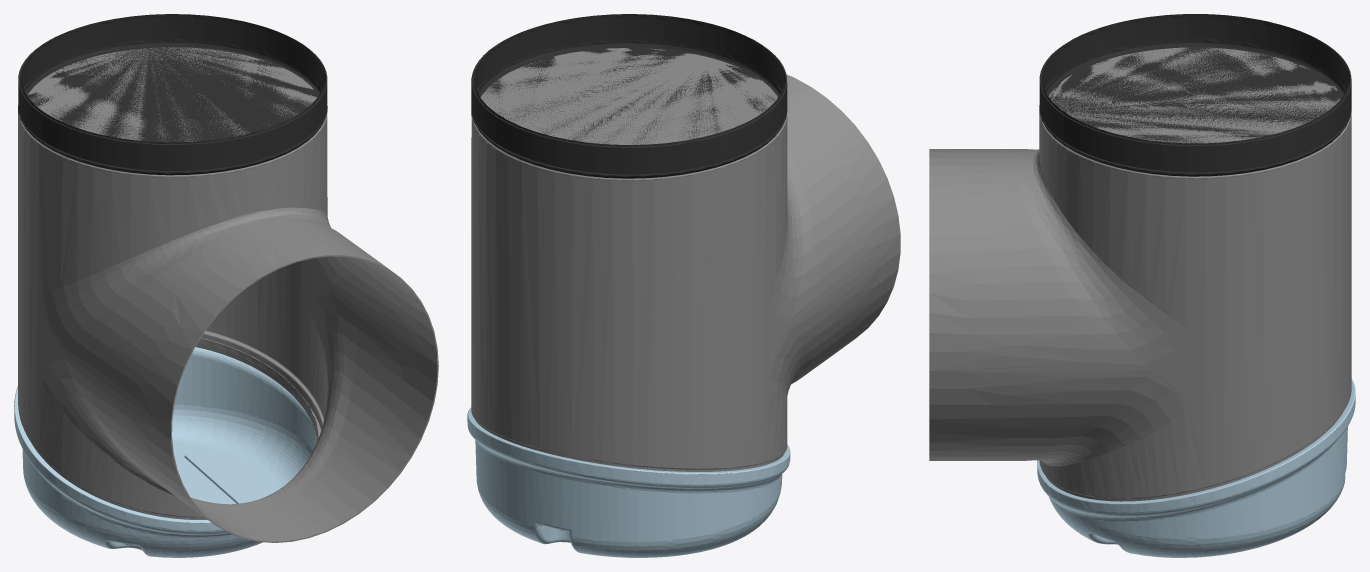
The model's file is wrist1.dae.
3 renders of one model, left to right at view 1: azimuth 30°, elevation 25°; view 2: azimuth 150°, elevation 25°; view 3: azimuth 270°, elevation 25°, orthographic. The views are drawn at different scales.
Visible parts, largest first — view 1: eSeries_UR3e_034, eSeries_UR3e_035, eSeries_UR3e_027; view 2: eSeries_UR3e_034, eSeries_UR3e_035, eSeries_UR3e_027; view 3: eSeries_UR3e_034, eSeries_UR3e_035, eSeries_UR3e_027.
Part boxes in pixels (x1,y1,x2,y2): eSeries_UR3e_034: (18, 47, 438, 542); eSeries_UR3e_035: (18, 14, 327, 175); eSeries_UR3e_027: (14, 347, 317, 557); eSeries_UR3e_034: (471, 48, 900, 471); eSeries_UR3e_035: (471, 14, 787, 178); eSeries_UR3e_027: (467, 407, 790, 557); eSeries_UR3e_034: (929, 47, 1351, 501); eSeries_UR3e_035: (1039, 14, 1351, 176); eSeries_UR3e_027: (1037, 378, 1355, 557).
Size of the model in its own units: 0.0644 by 0.086 by 0.0969.
